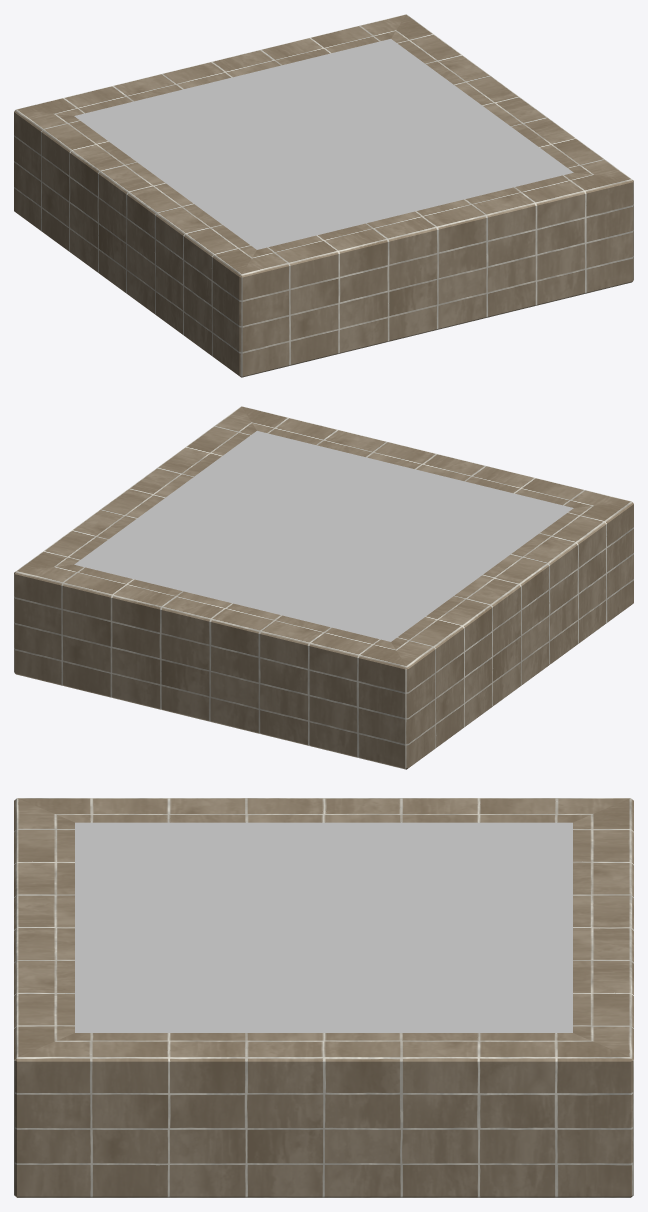
File: PlatformSmallOscYSpinning.fbx
3 views of the same model, one above another, from view 1: azimuth 30°, elevation 25°; view 2: azimuth 150°, elevation 25°; view 3: azimuth 270°, elevation 25° (orthographic). The views are drawn at different scales.
Visible parts, largest first — view 1: PlatformSmallOscYSpinning; view 2: PlatformSmallOscYSpinning; view 3: PlatformSmallOscYSpinning.
Part boxes in pixels (x1=…): PlatformSmallOscYSpinning: x1=14, y1=14, x2=633, y2=377; PlatformSmallOscYSpinning: x1=14, y1=406, x2=633, y2=769; PlatformSmallOscYSpinning: x1=14, y1=798, x2=633, y2=1197.
Bounding box in the file's own units: 300 × 75 × 300.
